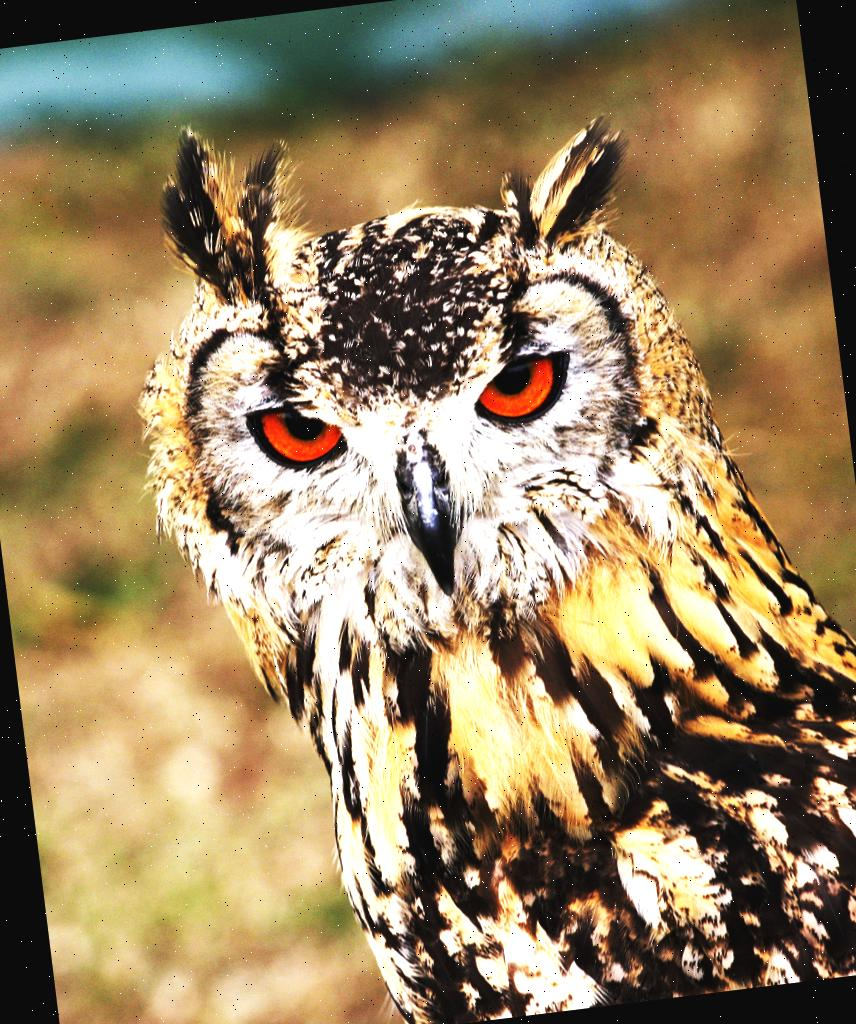Owl: (97, 47, 856, 1024)
